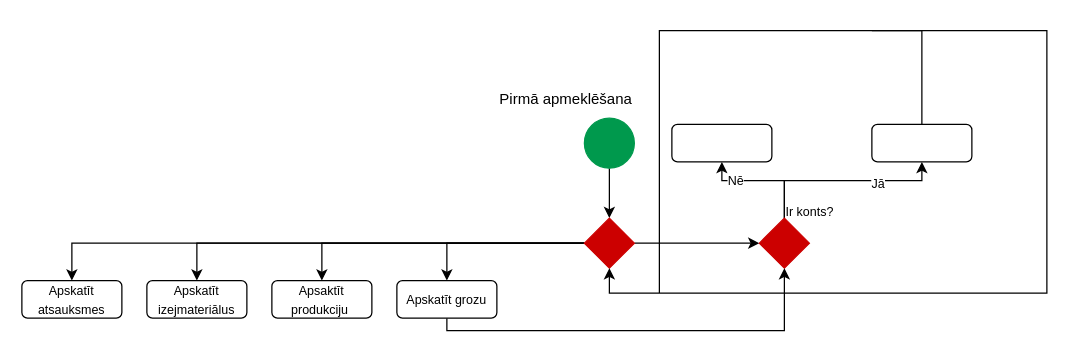
The diagram is 1079 pixels wide and 363 high, and some of its shapes have lost their labels. The shapes that lost their labels are listed below. From the top down, each one's centre as x and y in pixels, then its label:
At [721,142]: "Reģistrēties".
At [921,142]: "Autorizēties".
